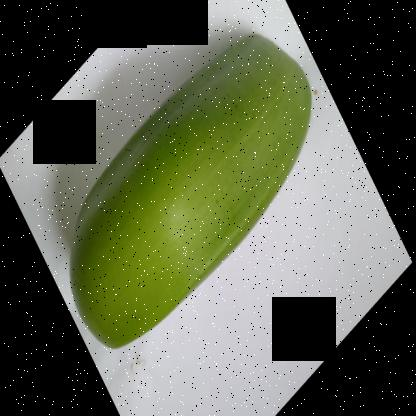freshunripe: (53, 23, 316, 367)
